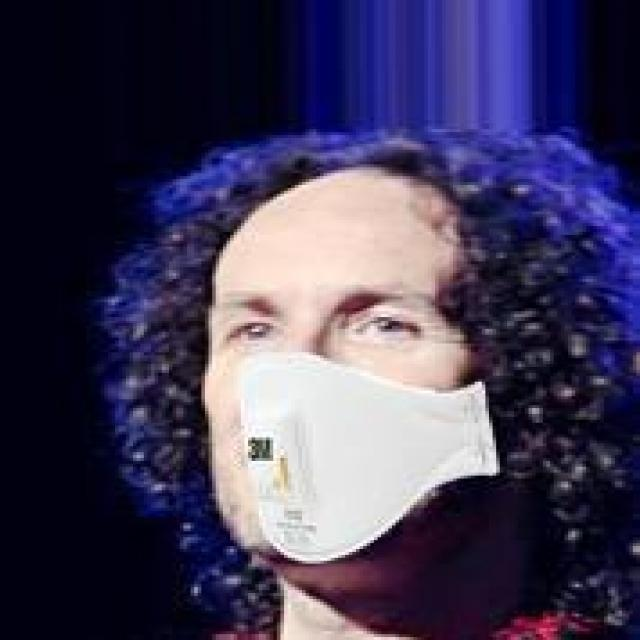mask: (104, 76, 568, 582)
